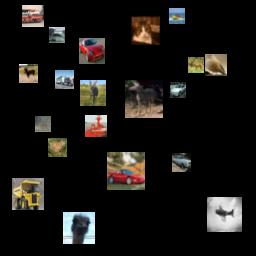airplane: (207, 197, 242, 232)
automobile: (107, 152, 145, 190), (79, 38, 105, 64), (172, 153, 191, 172), (170, 82, 186, 98)
bird: (63, 212, 95, 244), (205, 54, 227, 76)
cat: (131, 16, 160, 45)
deer: (125, 80, 163, 118), (80, 80, 106, 106), (188, 57, 204, 73), (35, 116, 51, 132)
frog: (48, 138, 67, 157)
ship: (85, 115, 107, 137), (49, 27, 65, 43), (169, 8, 185, 24)
truck: (12, 178, 44, 210), (22, 5, 44, 27), (55, 70, 74, 89)
